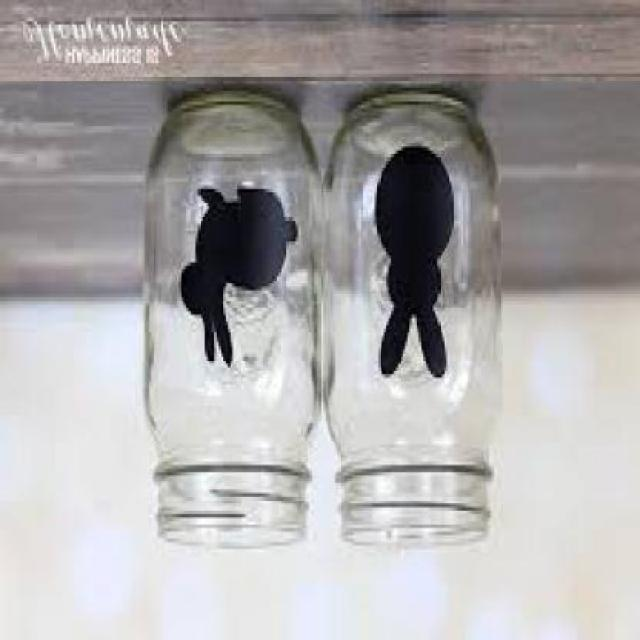GLASS: (312, 94, 496, 549), (143, 94, 320, 549)
